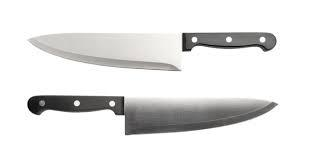Knife: (27, 94, 278, 135), (26, 31, 276, 71)
